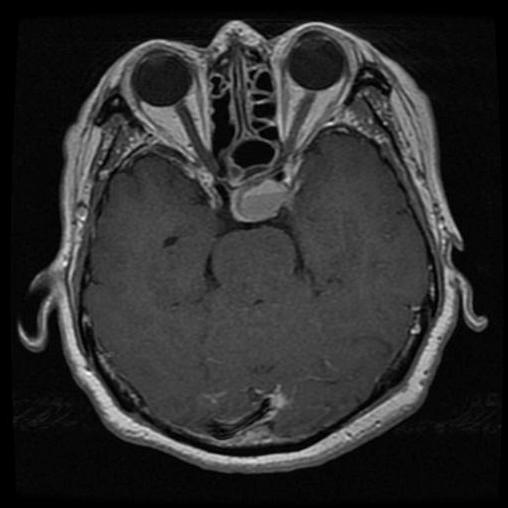Tumour-Pituitary: (199, 176, 303, 238)
